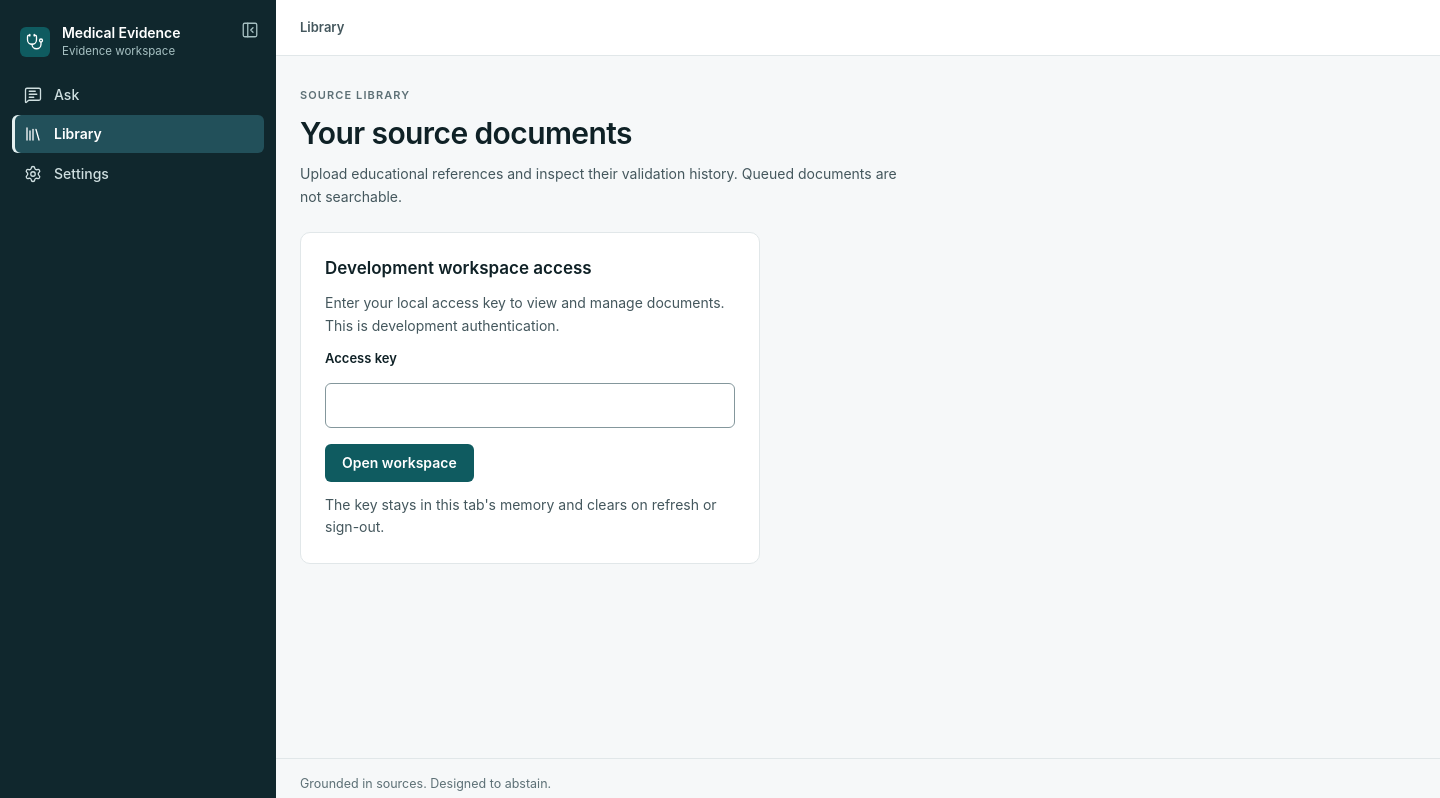
Test: M1 document workflows › requires a file and metadata without sending an upload
Type "local-test-key" into the password field labelled "Access key" at (530, 406), box left=325, top=383, right=735, bottom=428
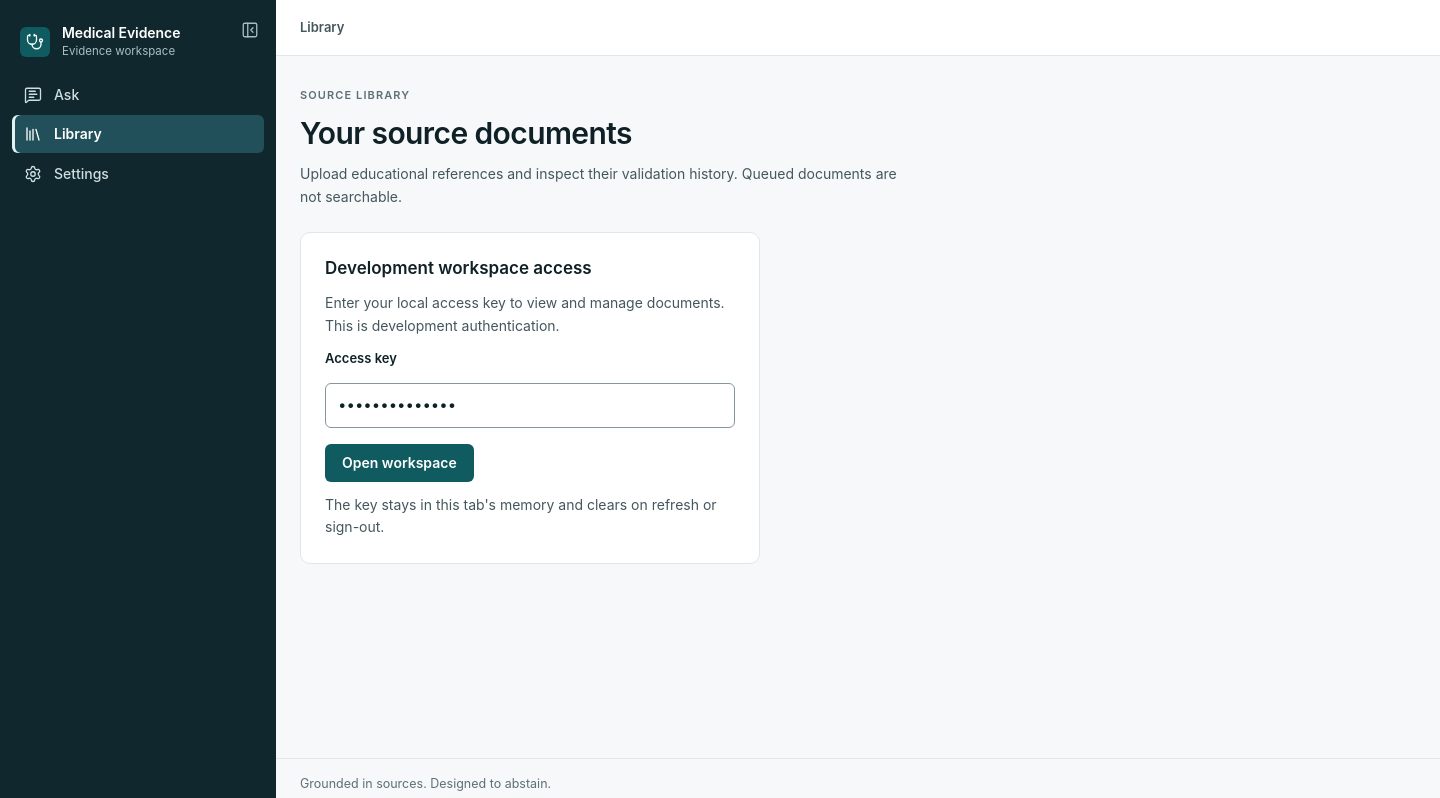
Click the button "Open workspace" at (399, 463), box left=325, top=444, right=474, bottom=482
(page scrolled)
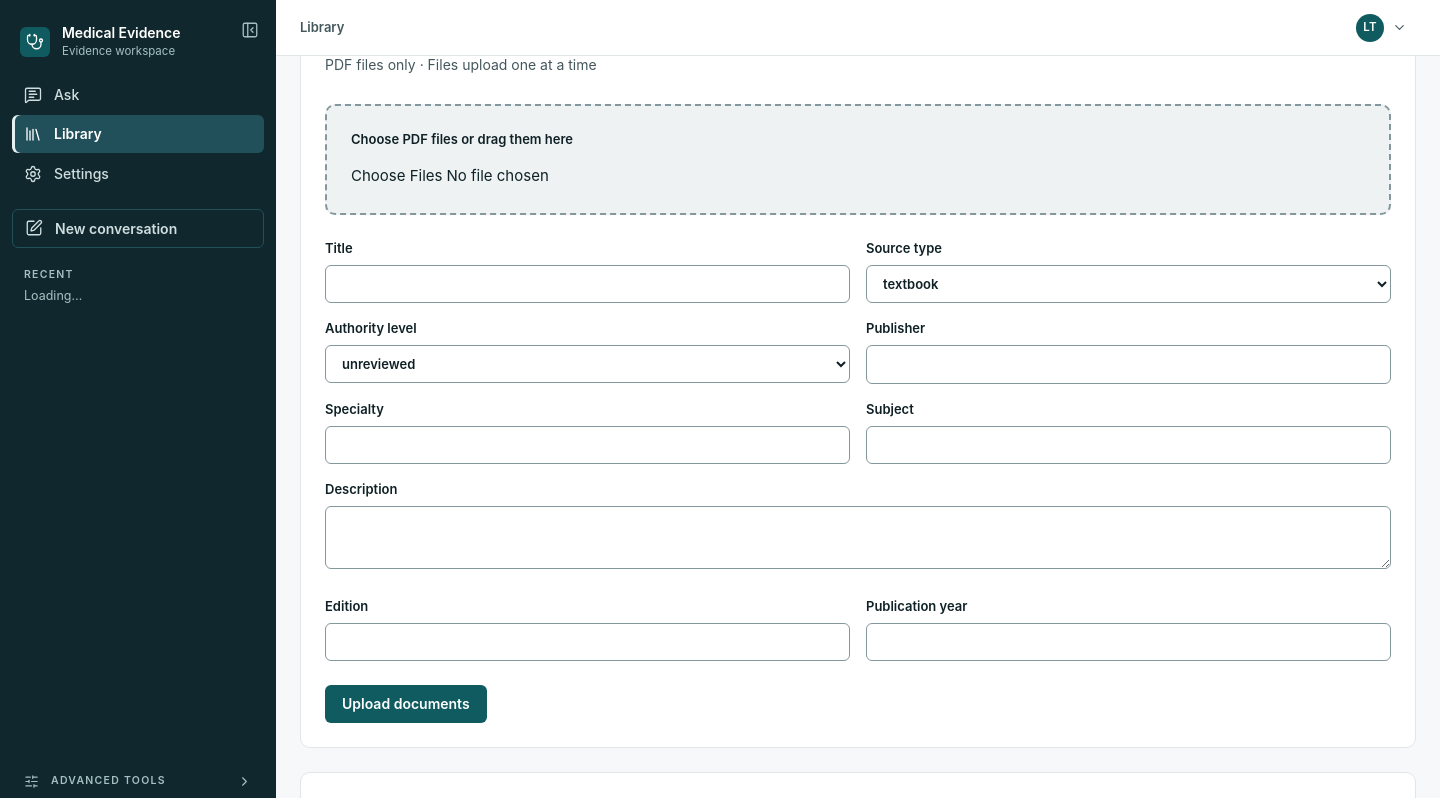
Result: the button named "Account and workspace" is shown at left=1351, top=8, right=1416, bottom=46
Submit the form named "Upload documents", box left=325, top=88, right=1391, bottom=723
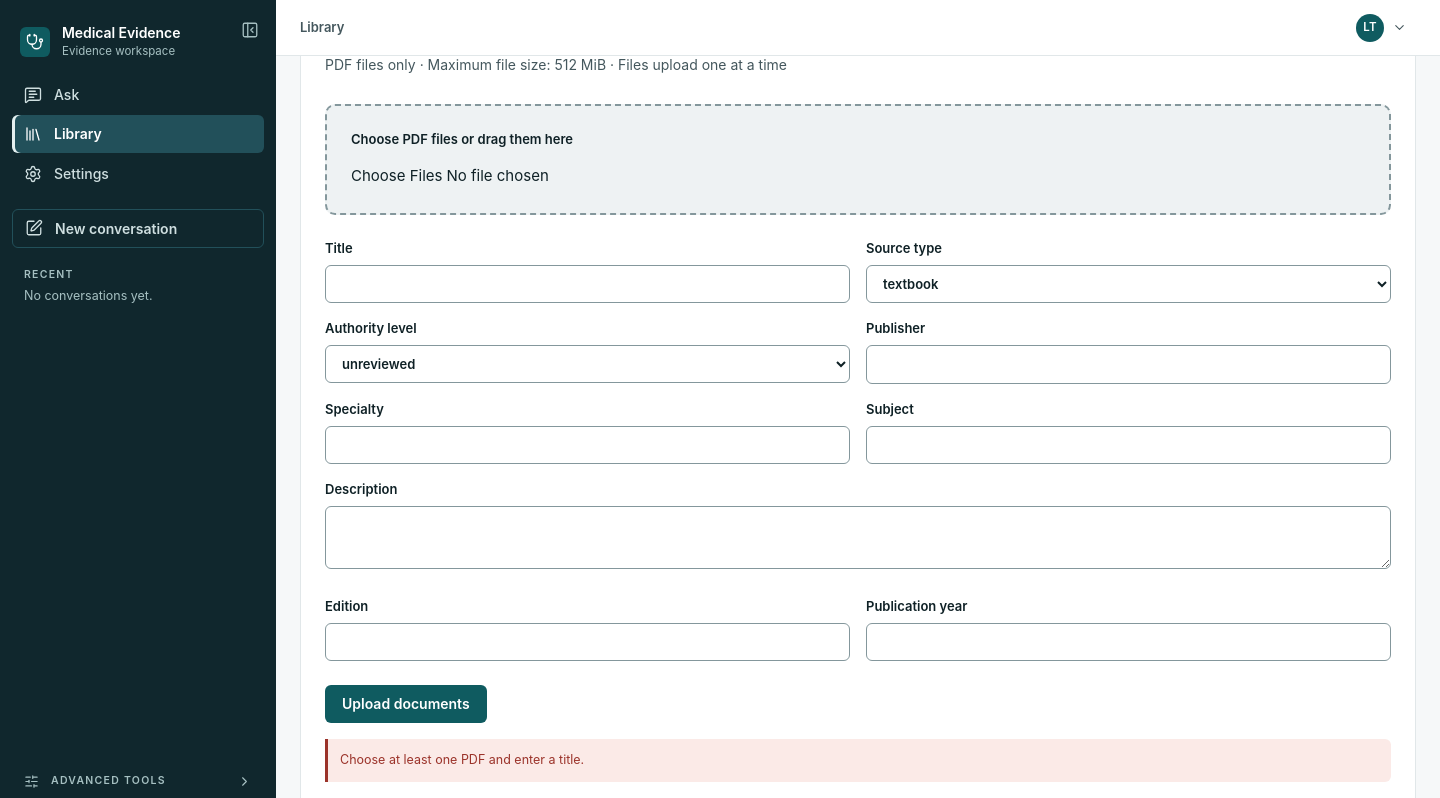
Result: the message shows "Choose at least one PDF" at left=340, top=752, right=584, bottom=767
